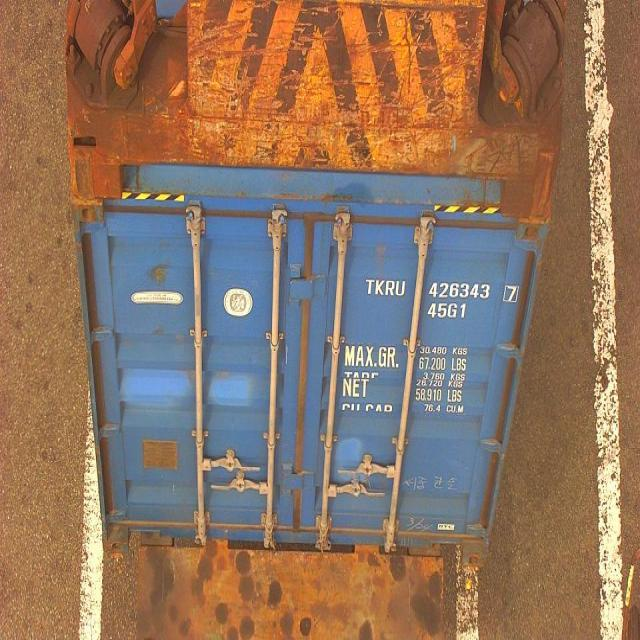ISO: (428, 302, 468, 321)
container_number: (366, 280, 515, 300)
